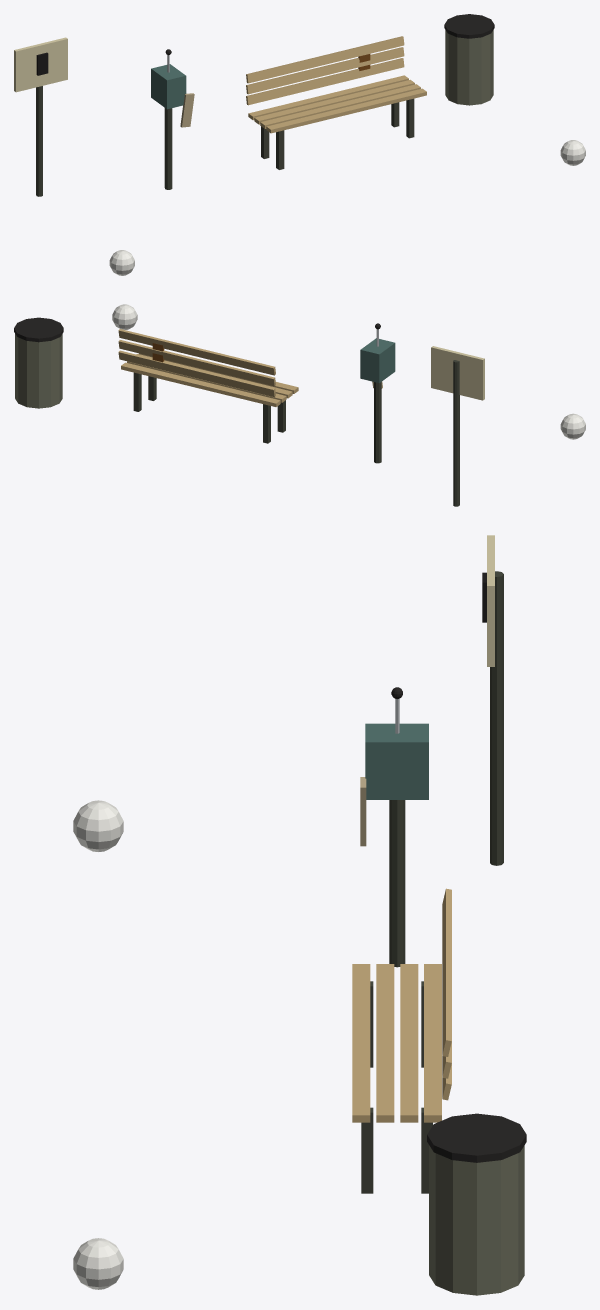
File: golf_tee.glb
3 views of the same model, one above another, from view 1: azimuth 30°, elevation 25°; view 2: azimuth 150°, elevation 25°; view 3: azimuth 270°, elevation 25° (orthographic). The views are drawn at different scales.
Parts seen in each view (by area): view 1: golf_tee; view 2: golf_tee; view 3: golf_tee.
Boxes of the visible parts, x1,y1,x2,y2 form: golf_tee: (14, 14, 585, 275); golf_tee: (14, 304, 585, 506); golf_tee: (73, 535, 526, 1295).
Size of the model in its own units: 5.48 by 1.7 by 2.28.
